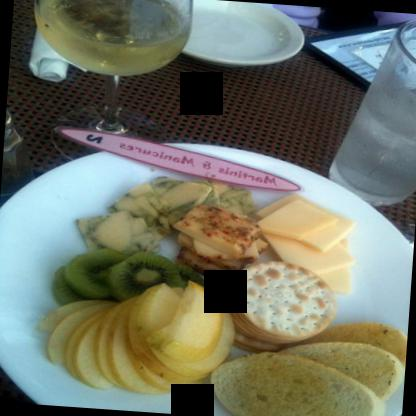bread: (210, 350, 387, 415), (280, 332, 404, 404)
cookie: (227, 258, 341, 354)
